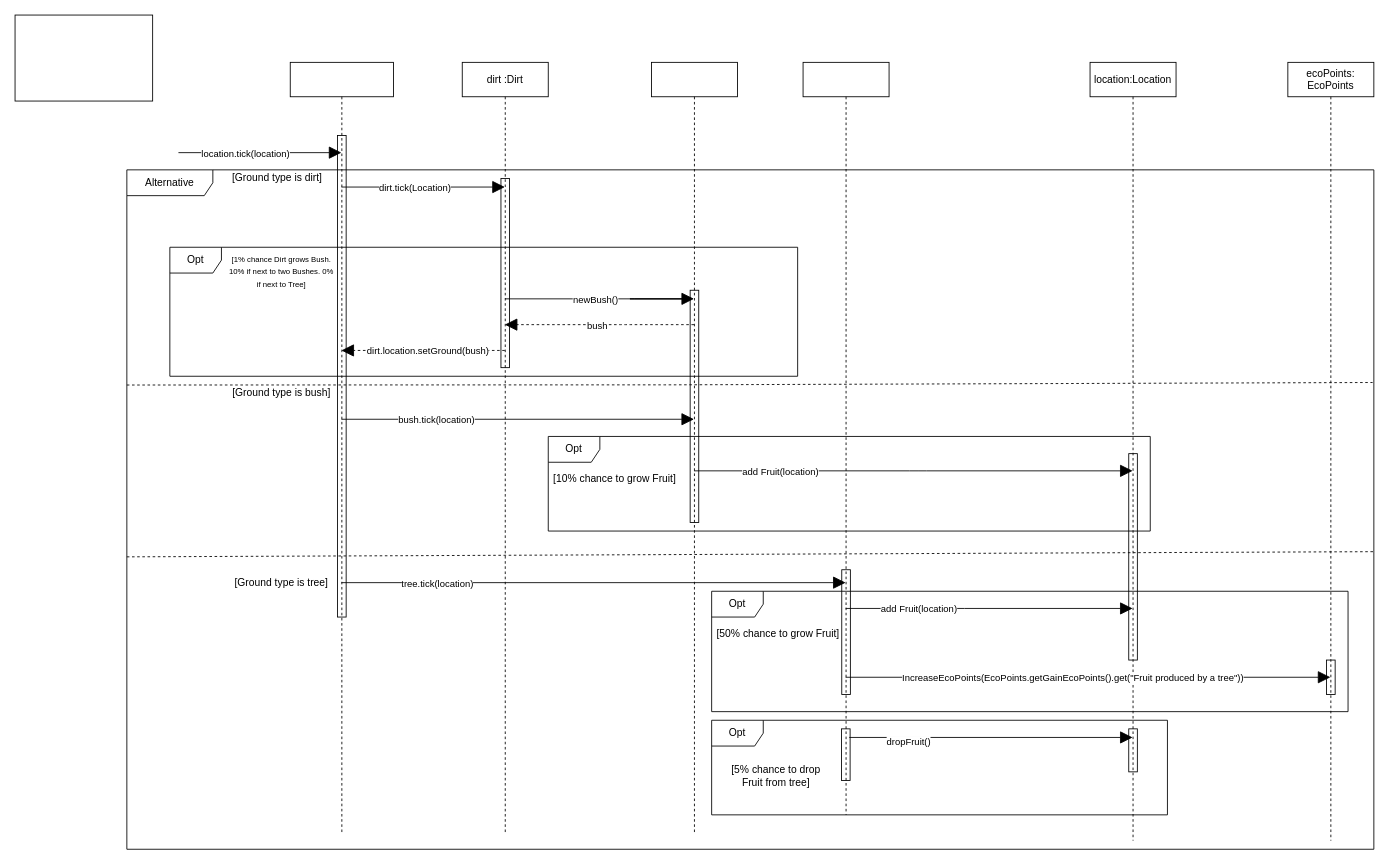
This 1391x864 diagram has some shape labels left out. The shapes that lost their labels are listed below. From the top down, each one's box as (x1, y1, x2, y2) in pixels, then its label:
(14, 14, 153, 101): Bush and Fruit Growing Sequence Diagram
(289, 61, 393, 832): location: Location
(651, 61, 737, 832): bush :Bush
(802, 61, 889, 815): tree :Tree
